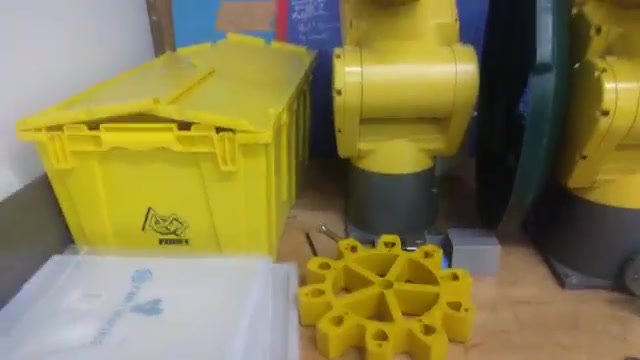gear: (298, 239, 474, 360)
